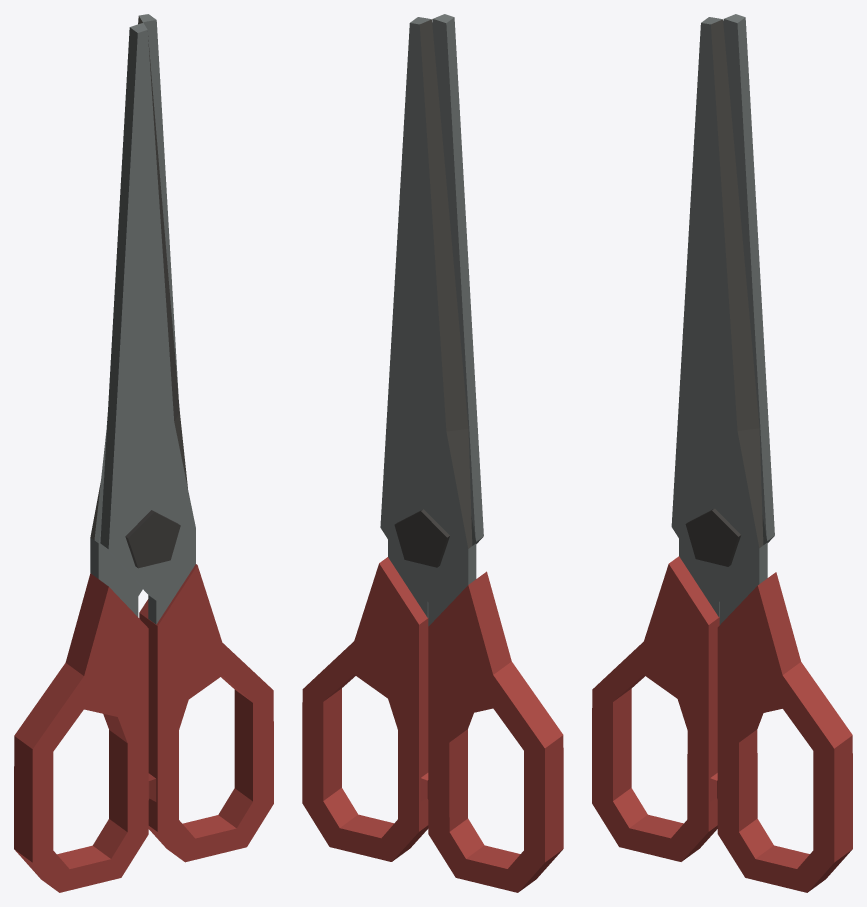
The model's file is SM_Scissors_R.gltf.
3 renders of one model, left to right at view 1: azimuth 30°, elevation 25°; view 2: azimuth 150°, elevation 25°; view 3: azimuth 330°, elevation 25°, orthographic.
Visible parts, largest first — view 1: SM_Scissors_R, SM_Scissors_L; view 2: SM_Scissors_L, SM_Scissors_R; view 3: SM_Scissors_R, SM_Scissors_L.
Part boxes in pixels (box(x1,y1,x2,y2)): SM_Scissors_R: box(100, 23, 273, 862); SM_Scissors_L: box(14, 14, 178, 892); SM_Scissors_L: box(380, 17, 563, 892); SM_Scissors_R: box(302, 14, 483, 861); SM_Scissors_R: box(671, 17, 852, 892); SM_Scissors_L: box(592, 14, 774, 861).
Bounding box in the file's own units: 0.1145 × 0.3807 × 0.0185.
Materials: 1 (1 with a texture image).
